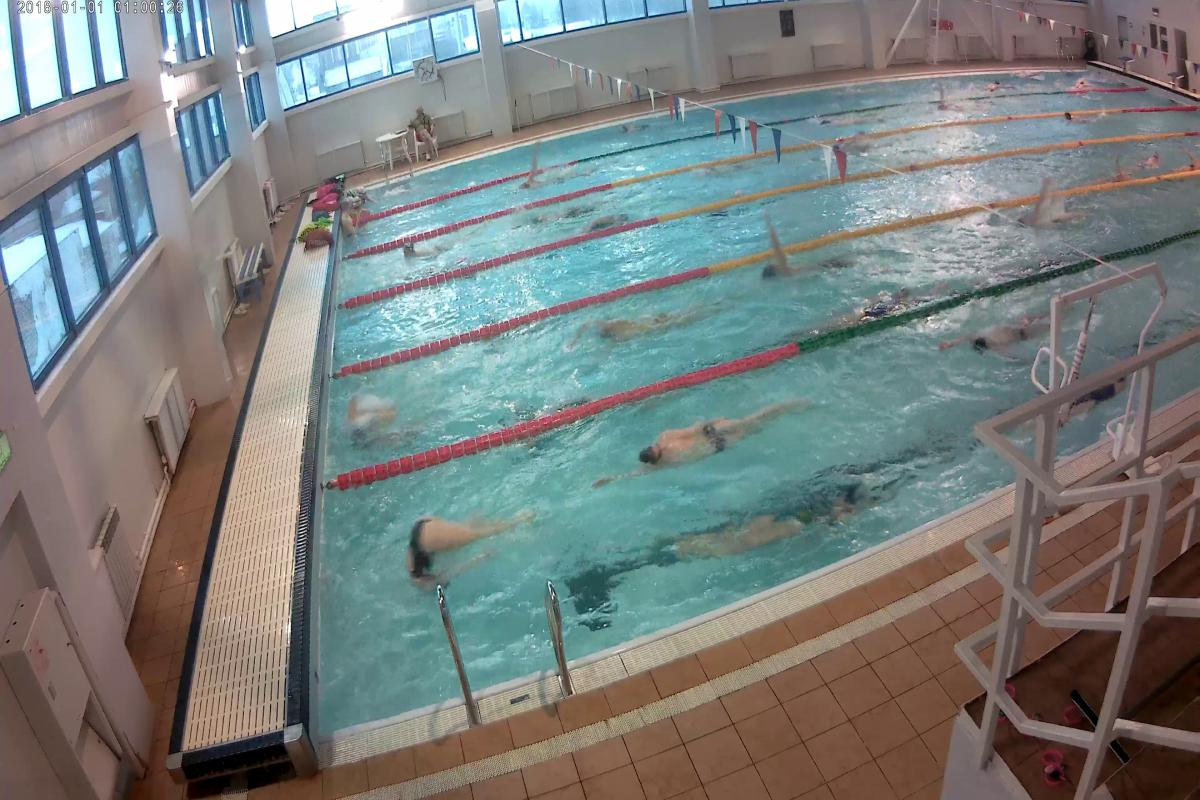swimmer: (601, 397, 798, 485), (714, 483, 870, 559), (388, 500, 503, 596), (569, 303, 705, 346), (946, 307, 1054, 355), (351, 395, 440, 449), (756, 254, 861, 288), (1014, 196, 1090, 229), (578, 211, 634, 236)
